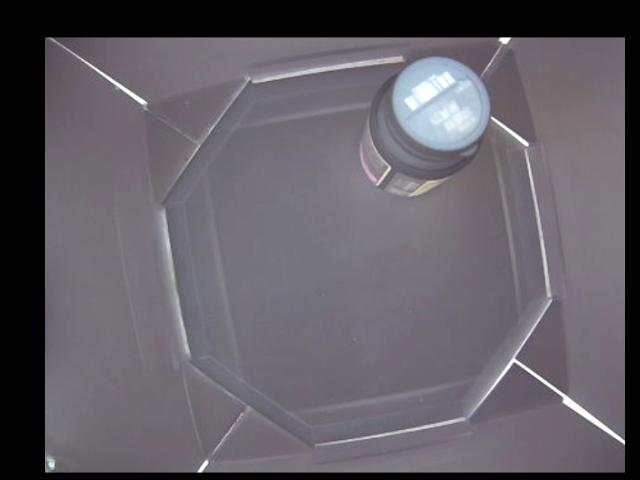Bottle: (357, 54, 490, 196)
